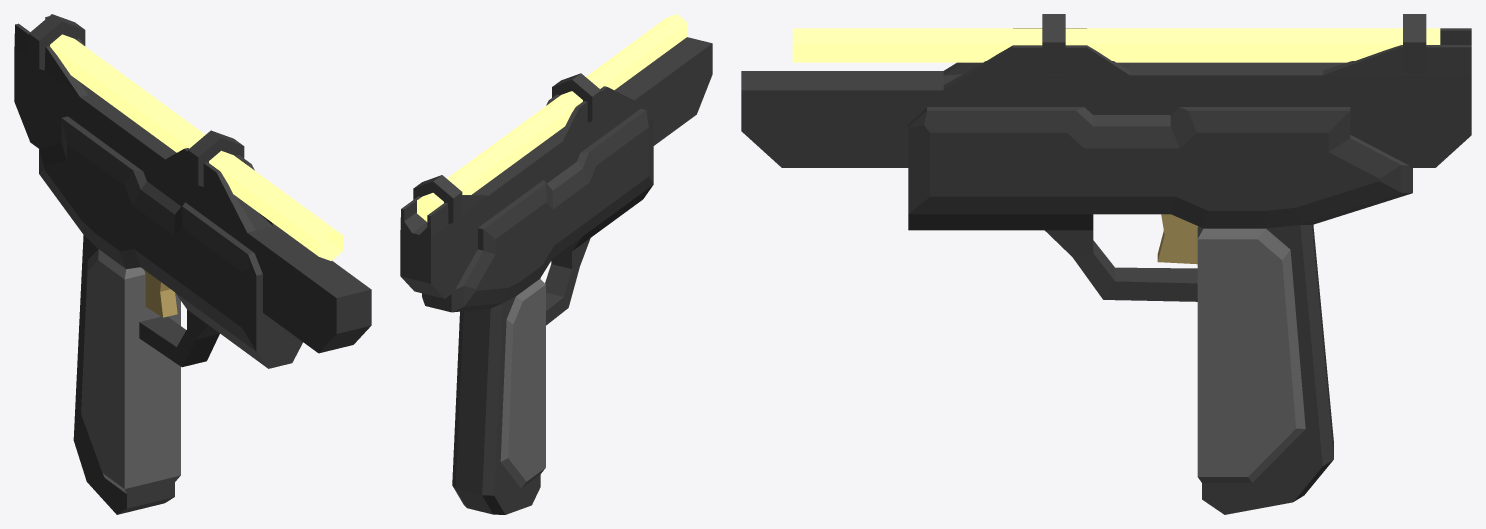
File: SyringeGun.fbx
The picture shows the model from 3 angles, left to right: view 1: azimuth 30°, elevation 25°; view 2: azimuth 150°, elevation 25°; view 3: azimuth 270°, elevation 25°; orthographic projection. The views are drawn at different scales.
Parts seen in each view (by area): view 1: SyringeGun; view 2: SyringeGun; view 3: SyringeGun.
Boxes of the visible parts, x1,y1,x2,y2 form: SyringeGun: [14, 14, 371, 514]; SyringeGun: [400, 14, 712, 514]; SyringeGun: [741, 14, 1471, 514].
Bounding box in the file's own units: 24.2 × 176 × 239.
